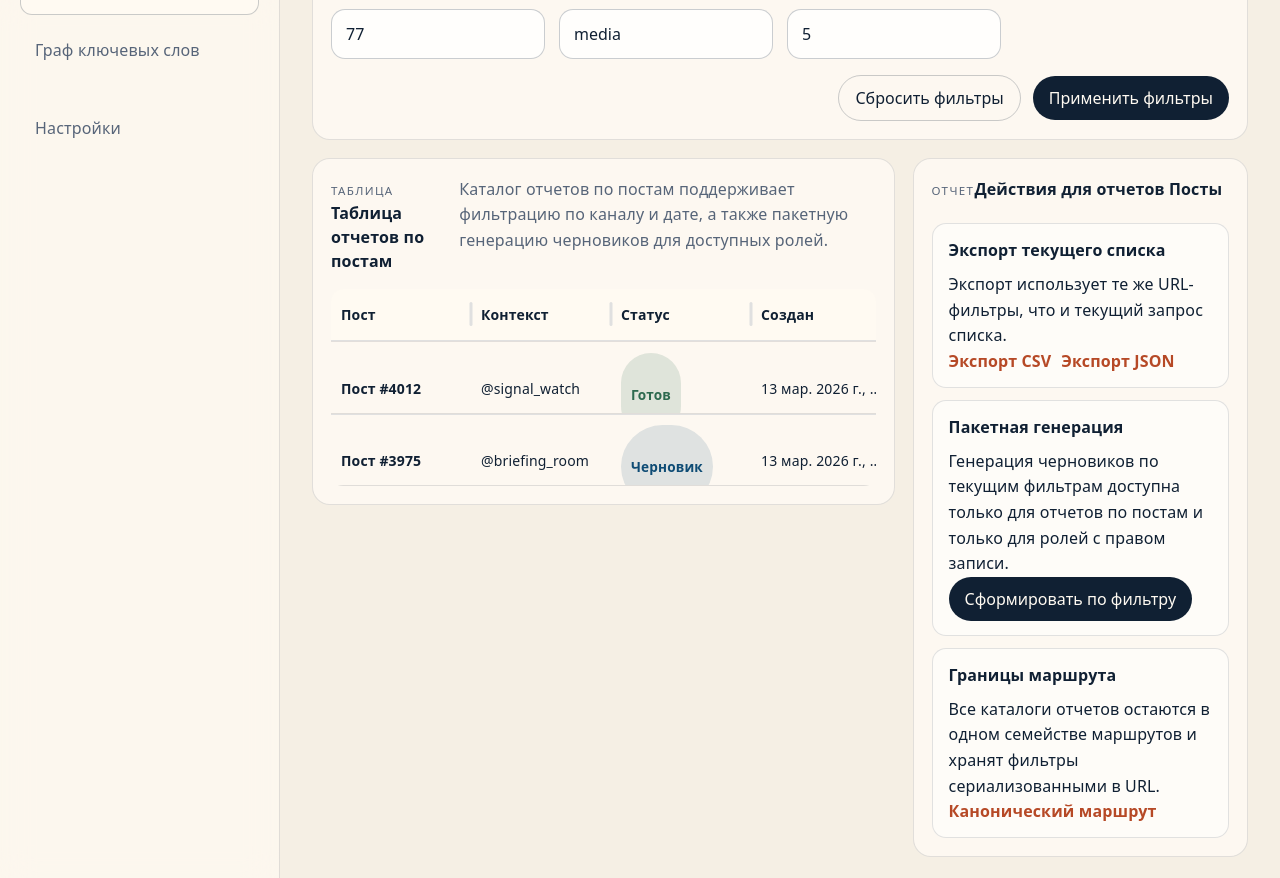
Reports page › runs batch report generation flow for post reports and refreshes the list
(page scrolled)
Click the button "Сформировать по фильтру": {"x": 1070, "y": 599} [949,577,1192,621]
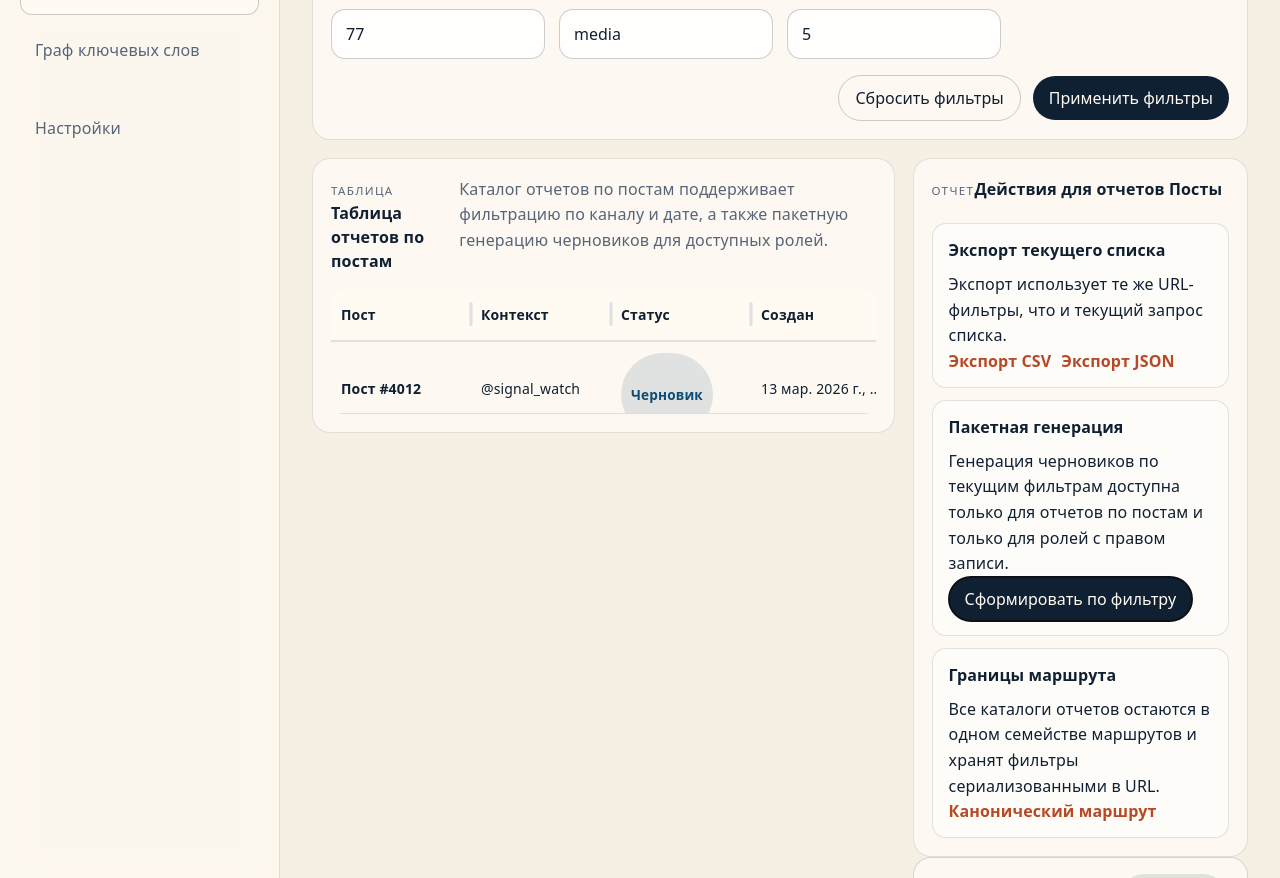
Expected: the text "Черновик" is shown, [621,353,713,414]
